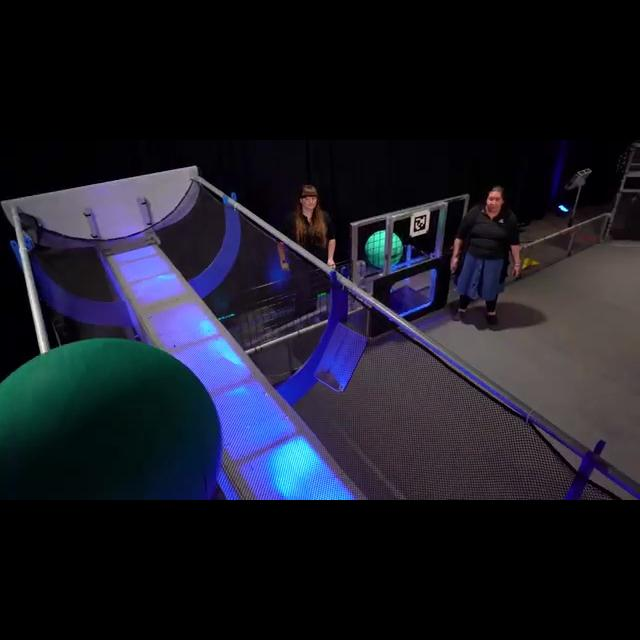ALGAE: (0, 336, 224, 498), (364, 228, 404, 268)
